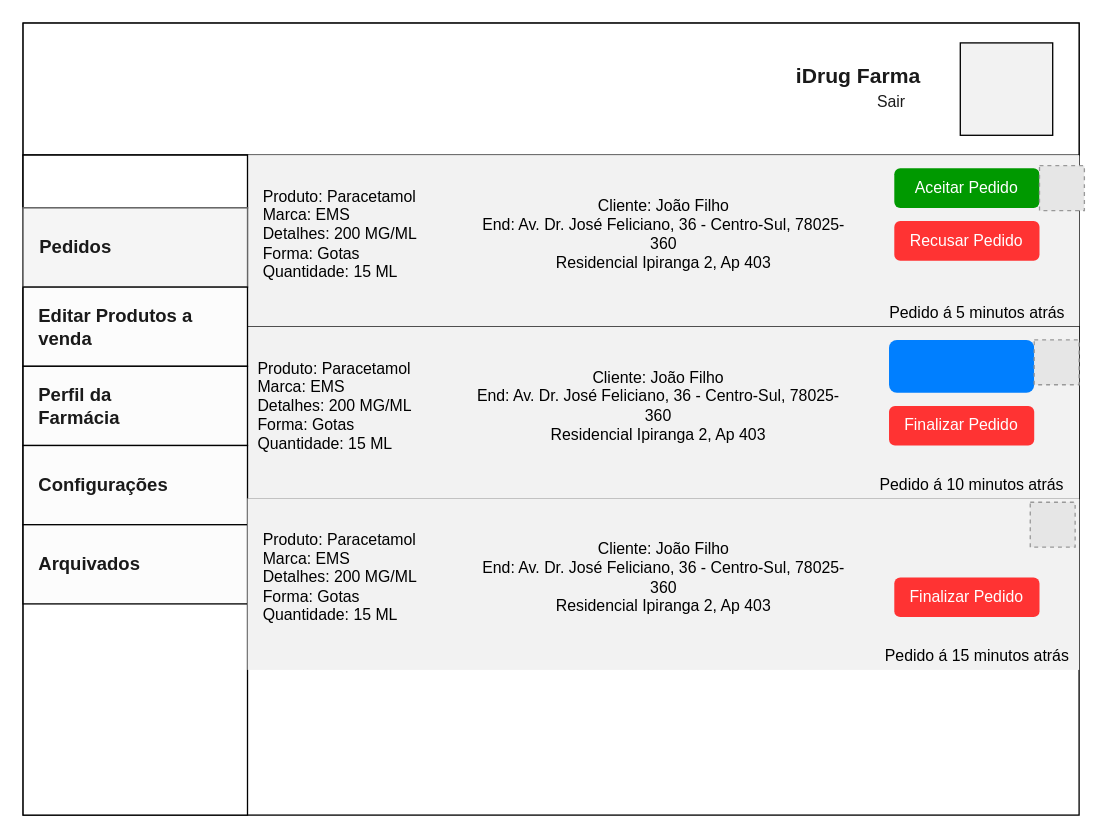
This 1107x838 diagram has some shape labels left out. Grey dashed boxes stand in for pictures. The shapes that lost their labels are listed below. From the top down, each one's centre as x and y in pixels, then its label:
At [1006,88]: "LOGO".
At [135,181]: "Menu".
At [961,365]: "Pedido em transporte".
